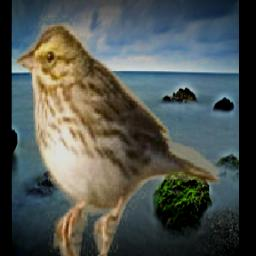Sparrow: (14, 15, 220, 256)
